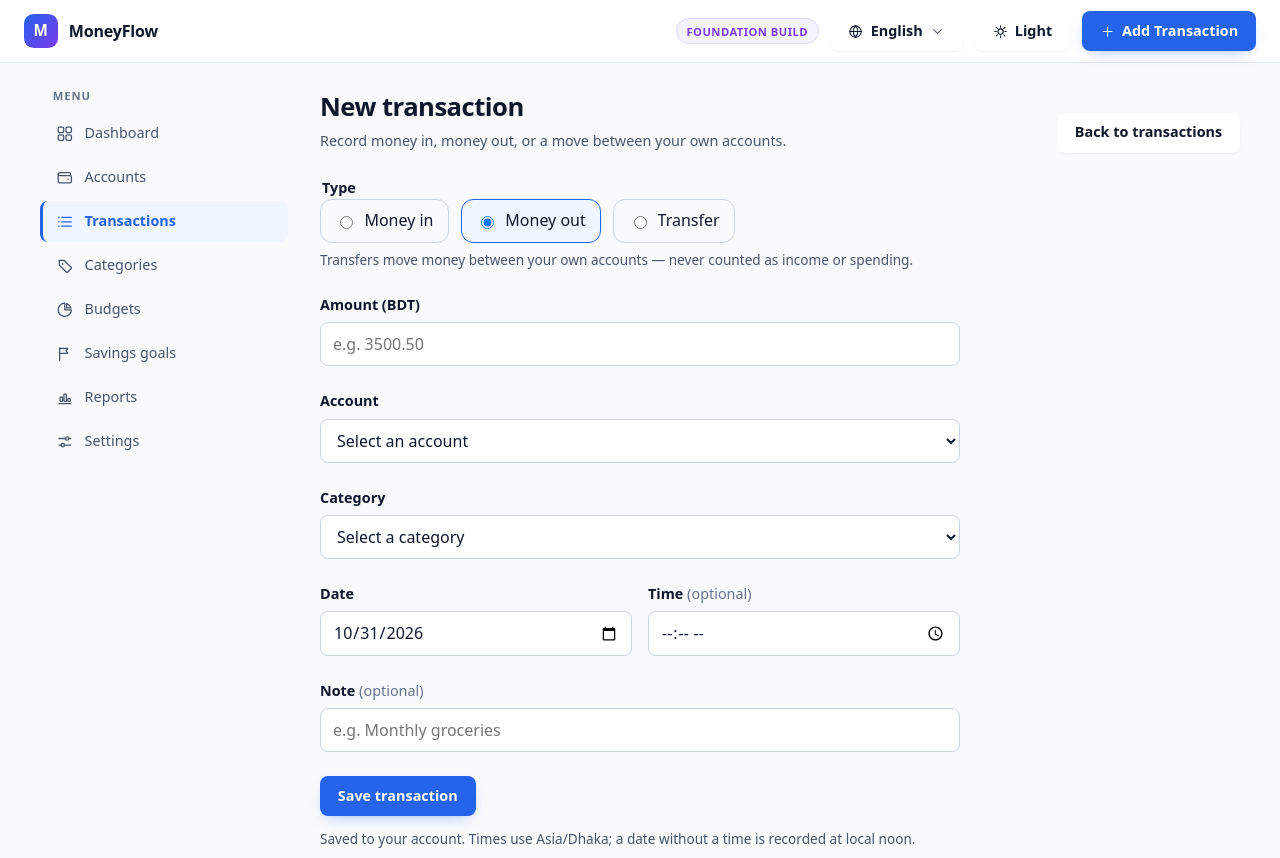
Scenario: new transaction route (authenticated API) › rejects over-precision amounts with a field error
Type "12.345" into the field labelled "Amount (BDT)".
click(640, 344); type("12.345")  # box [320,322,960,366]
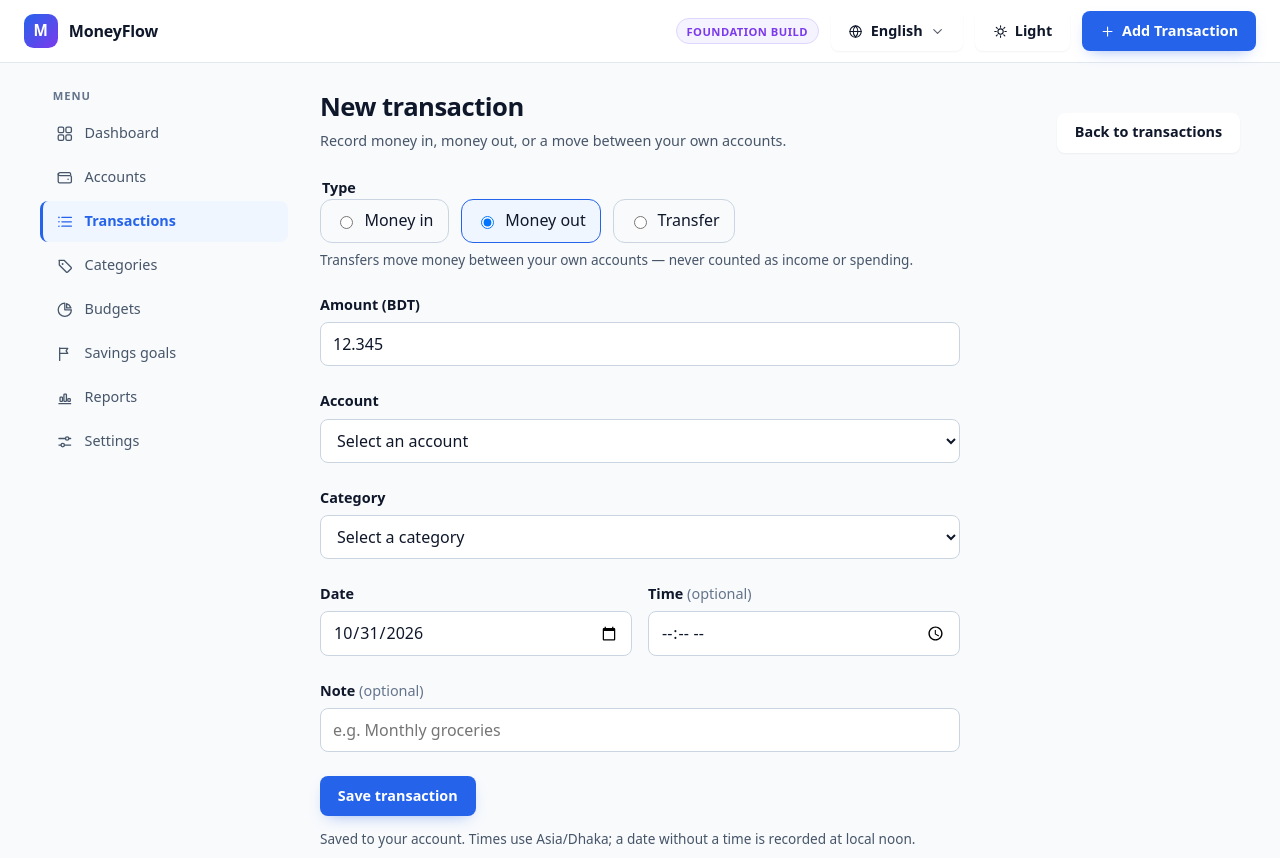
Leave the field labelled "Amount (BDT)", box [320,322,960,366]
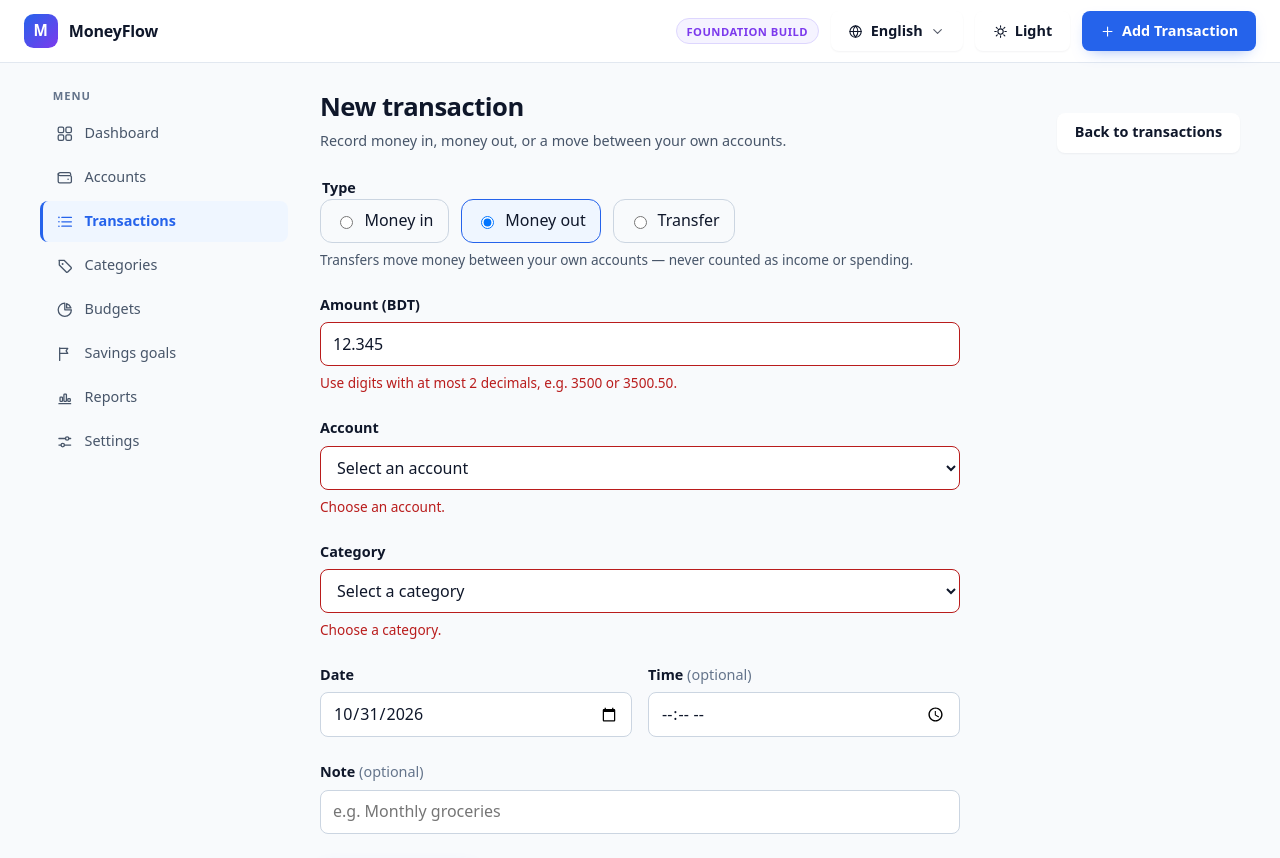
Check: the text "Use digits with at most 2 decimals, e.g. 3500 or 3500.50." is shown, box [320,373,677,392]
